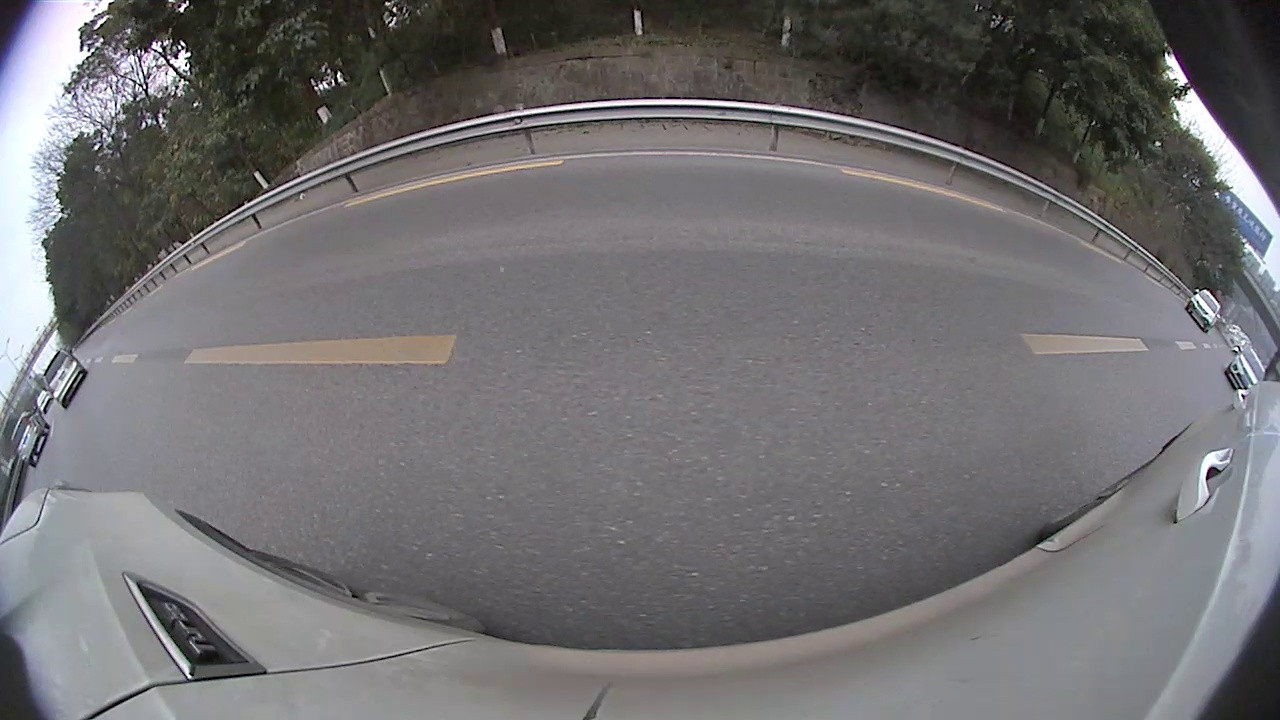car: (41, 347, 89, 410), (8, 407, 51, 468), (1223, 345, 1268, 393), (1184, 285, 1224, 333)
